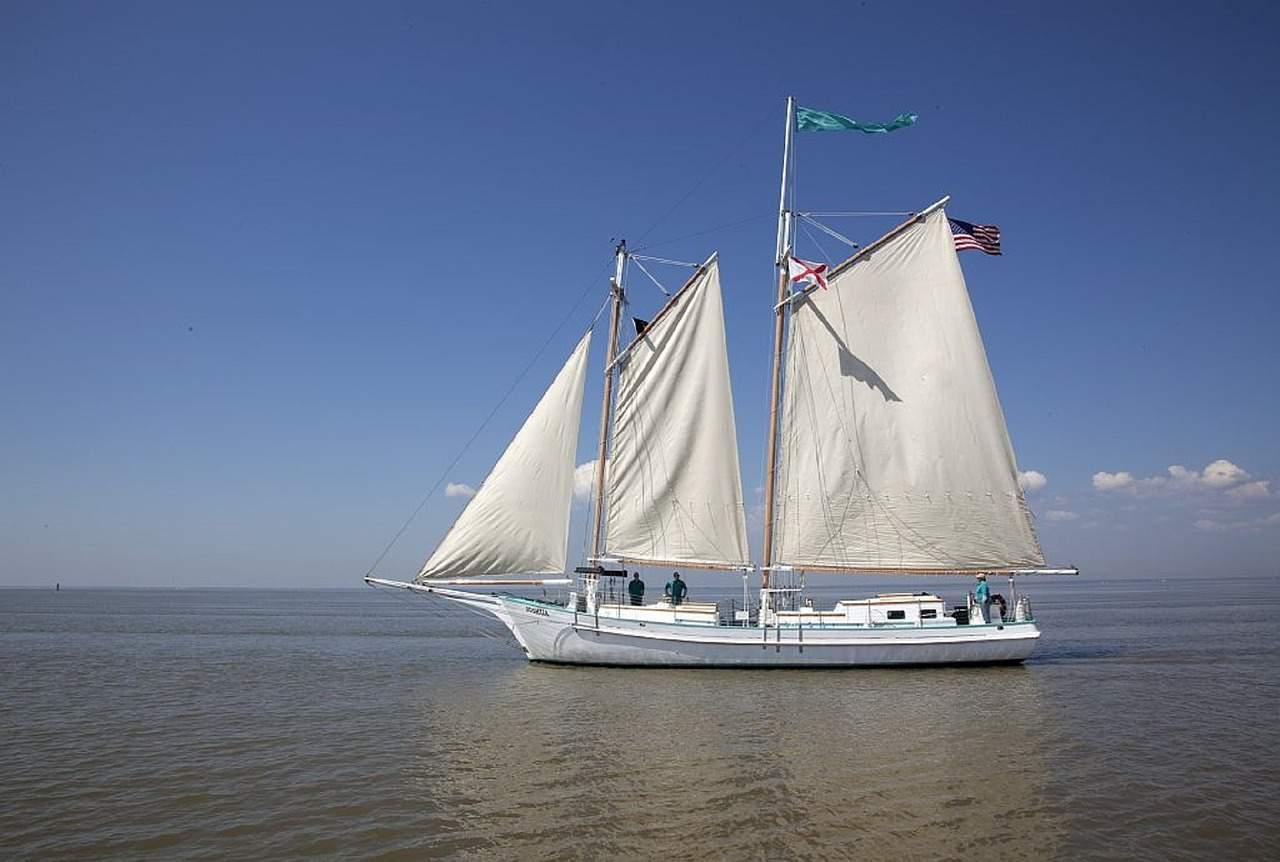Ship: (367, 94, 1082, 668)
